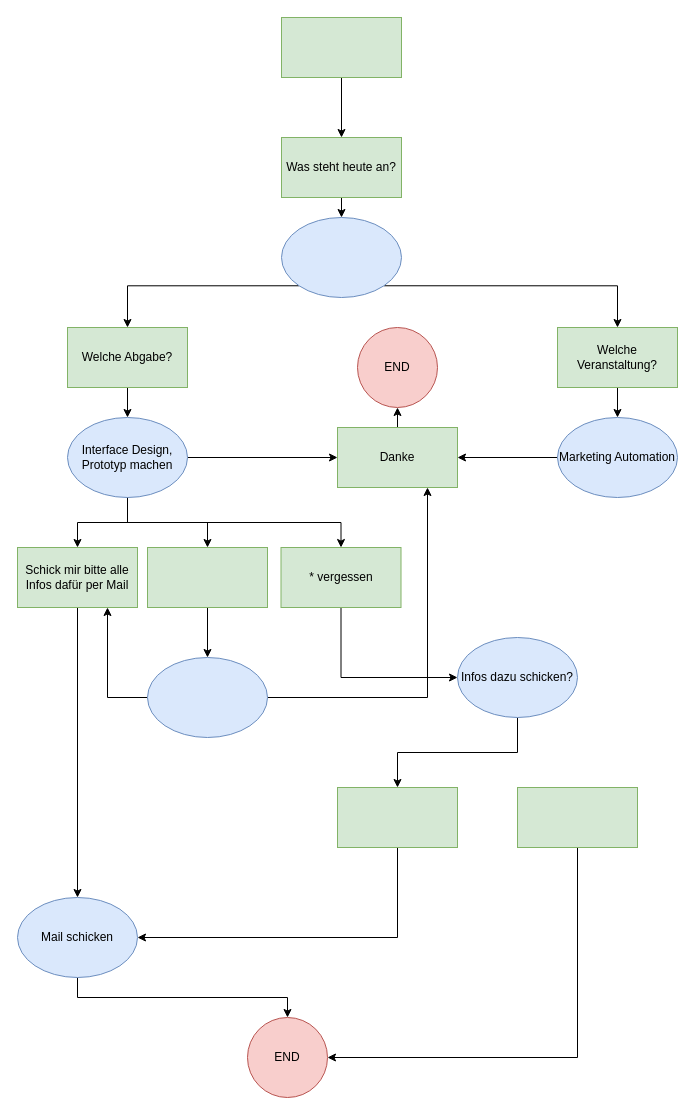
Image size: 695x1115. Some labels were removed from this diagram. The centre of each missing label's shape, as x and y in pixels:
Eine Abgabe und eine Veranstaltung: (341,257)
Hallo Intranet: (341,47)
Heute Abend: (207,697)
Ja: (397,817)
Nein: (577,817)
Wann * abgeben?: (207,577)
